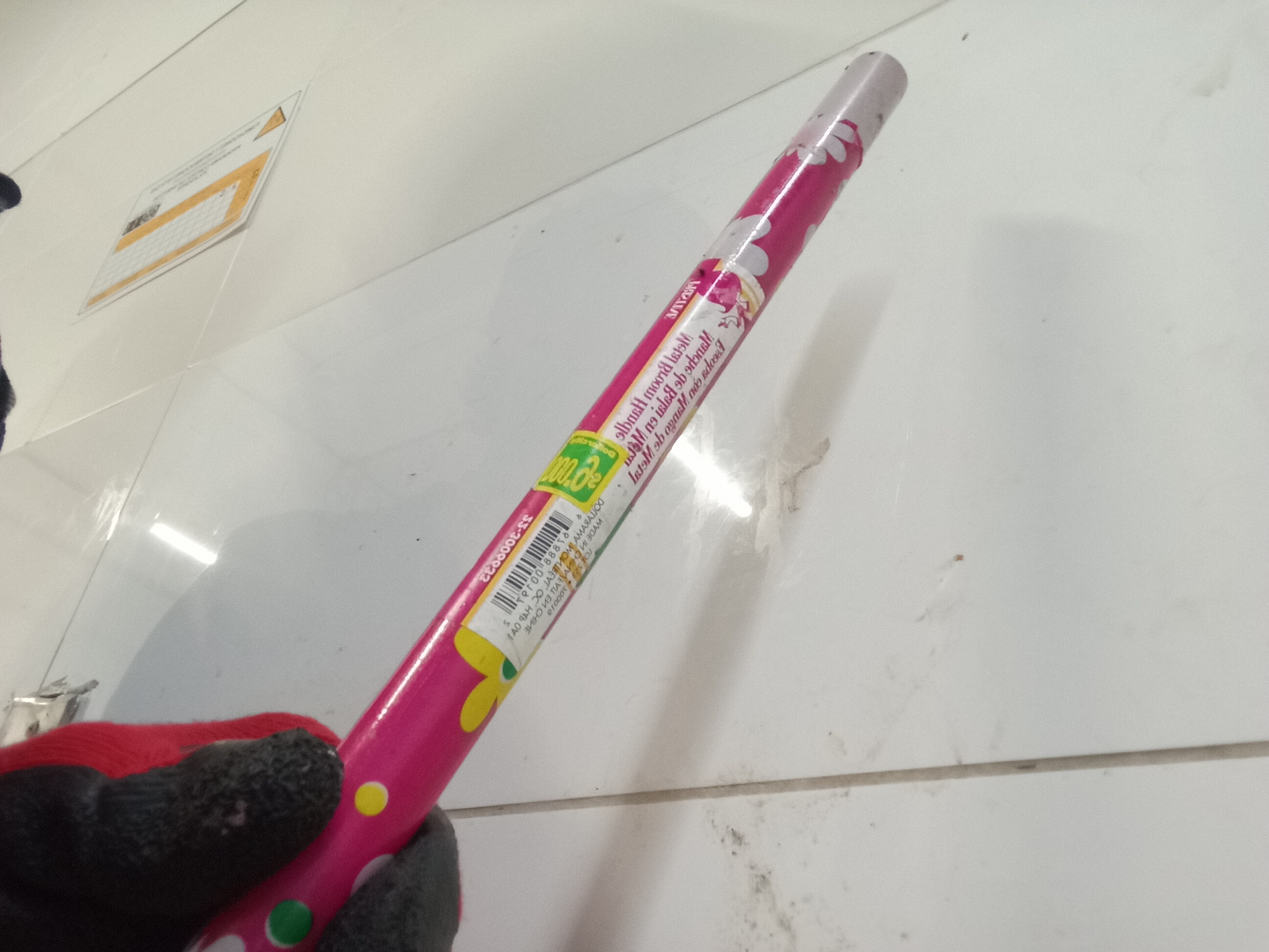Ordinario: (188, 53, 905, 952)
